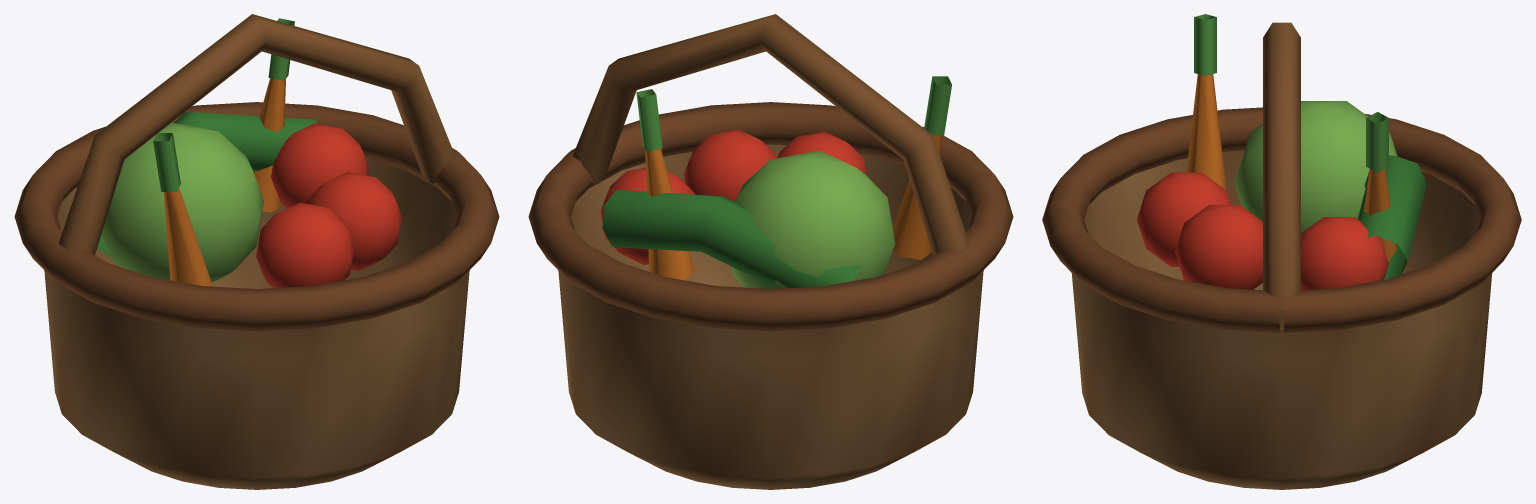
The model's file is style_basket.glb.
The picture shows the model from 3 angles, left to right: view 1: azimuth 30°, elevation 25°; view 2: azimuth 150°, elevation 25°; view 3: azimuth 270°, elevation 25°; orthographic projection.
Visible parts, largest first — view 1: style_basket_main; view 2: style_basket_main; view 3: style_basket_main.
Boxes of the visible parts, <box> form: style_basket_main: <box>14,14,499,489</box>; style_basket_main: <box>528,14,1013,489</box>; style_basket_main: <box>1042,14,1521,489</box>.
Bounding box in the file's own units: 0.2507 × 0.2337 × 0.2508.
